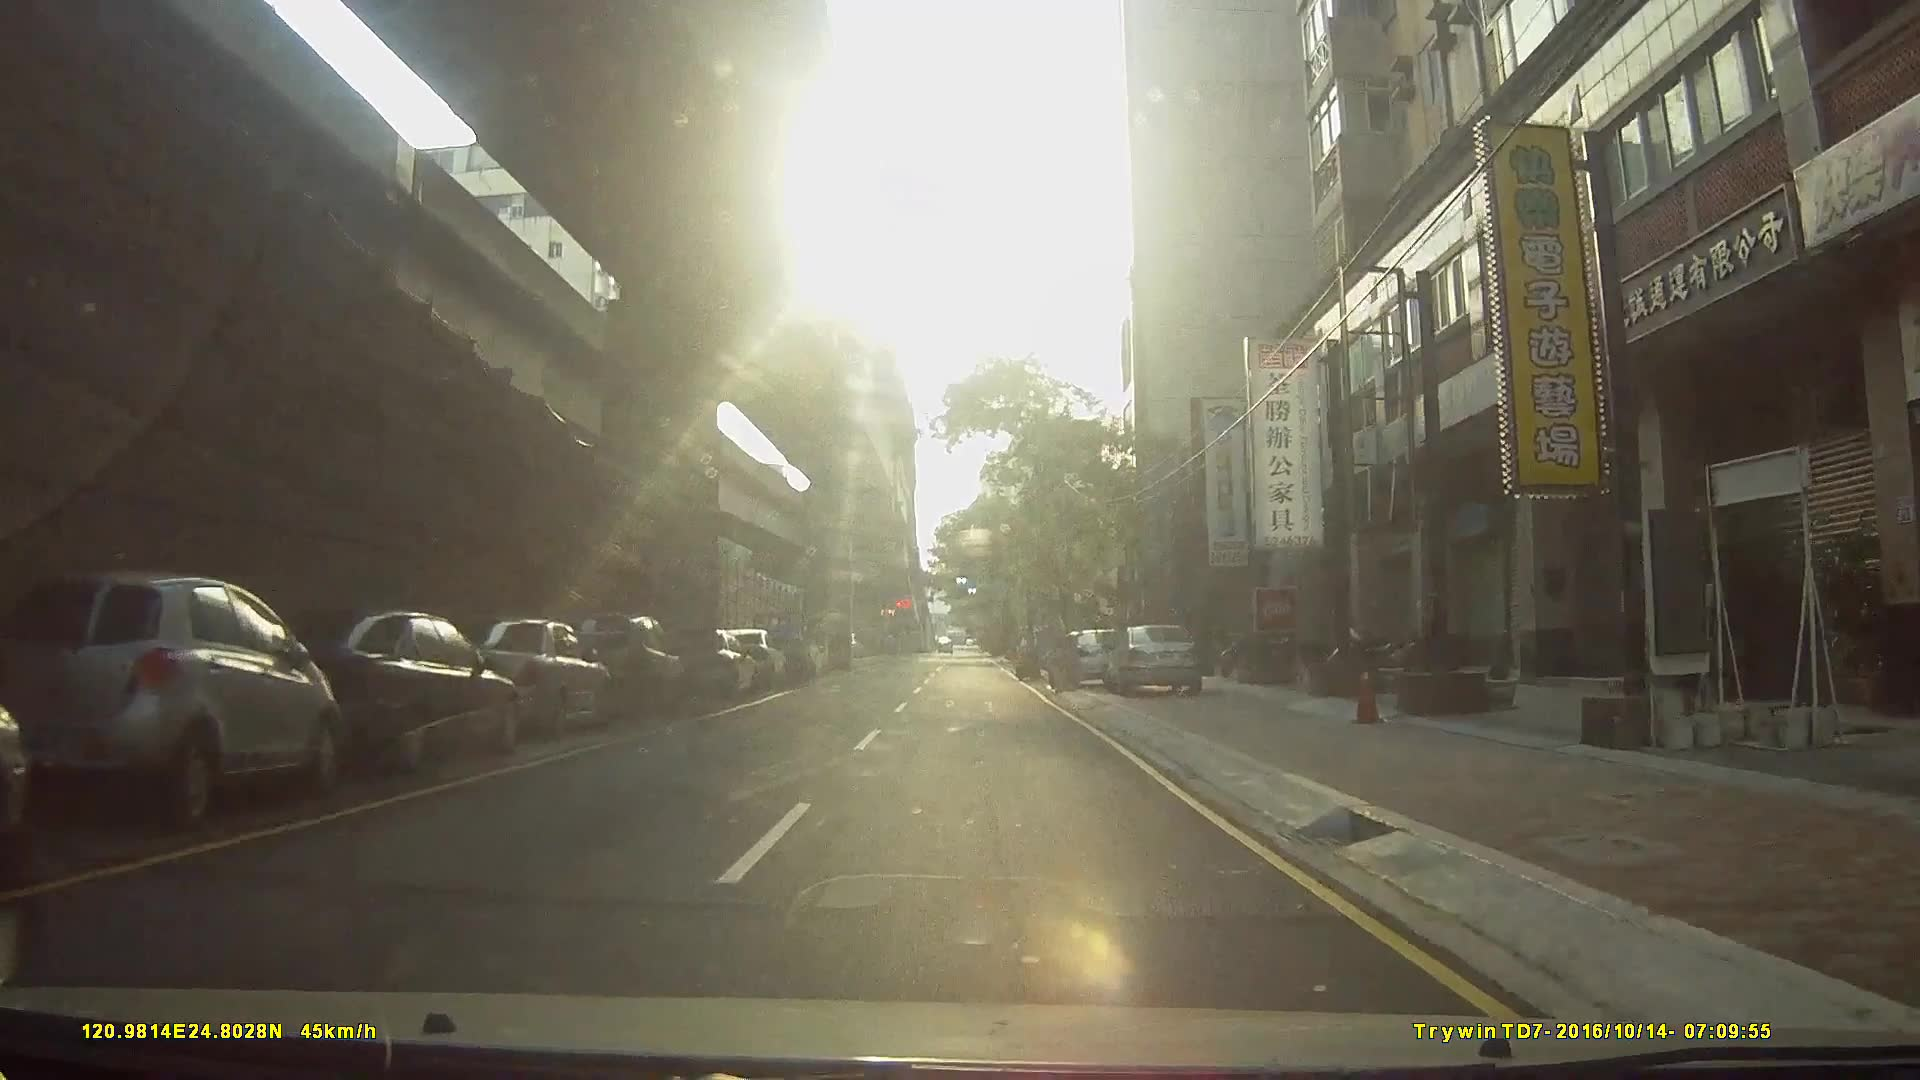rider: (1012, 622, 1042, 680)
vehicle: (1, 569, 344, 831), (258, 607, 506, 776), (443, 615, 606, 739), (557, 610, 684, 721), (1100, 622, 1205, 697), (1045, 629, 1128, 693), (713, 625, 787, 693), (749, 606, 808, 682)
